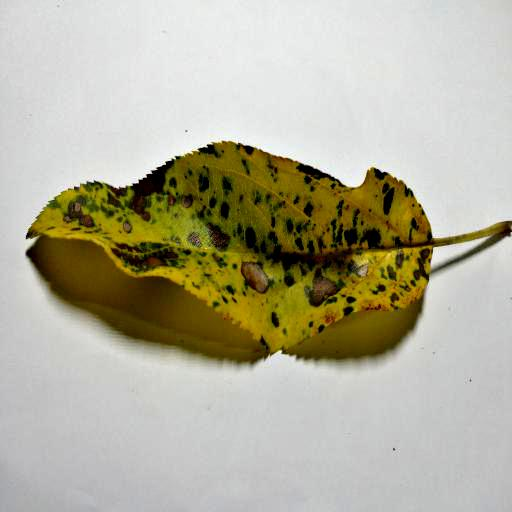Brown_Spot: (243, 261, 271, 298), (124, 251, 182, 268), (129, 197, 164, 225), (65, 199, 97, 222), (308, 273, 329, 303), (202, 222, 225, 247), (170, 198, 196, 212), (118, 222, 135, 234)
